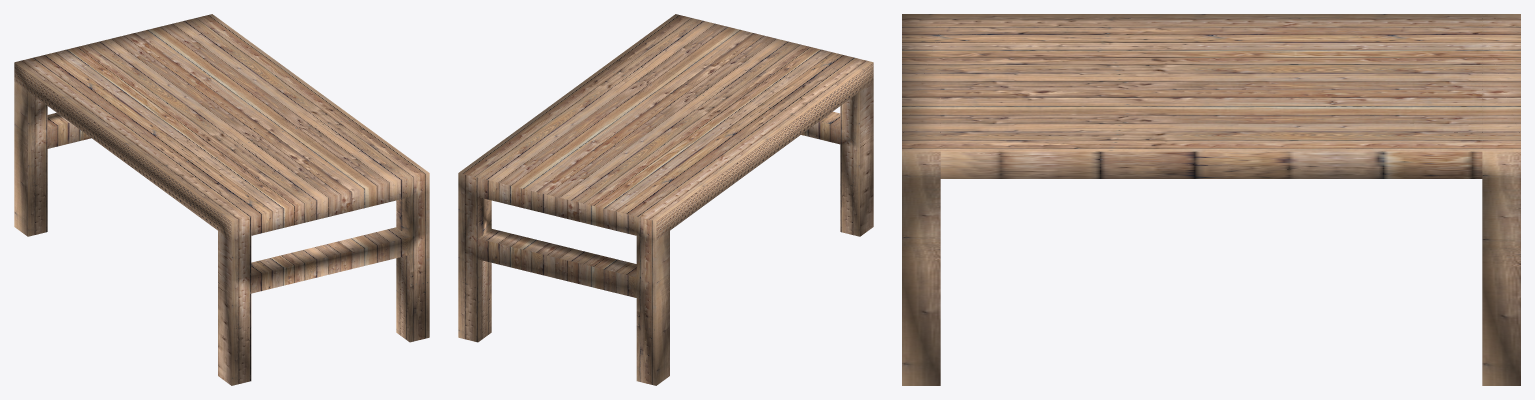
The model's file is Table.fbx.
The picture shows the model from 3 angles, left to right: view 1: azimuth 30°, elevation 25°; view 2: azimuth 150°, elevation 25°; view 3: azimuth 270°, elevation 25°; orthographic projection. The views are drawn at different scales.
Parts seen in each view (by area): view 1: Table; view 2: Table; view 3: Table.
Boxes of the visible parts, x1,y1,x2,y2 form: Table: [14, 14, 429, 385]; Table: [458, 14, 873, 385]; Table: [902, 14, 1520, 385].
Bounding box in the file's own units: 0.8568 × 0.6805 × 1.63.
